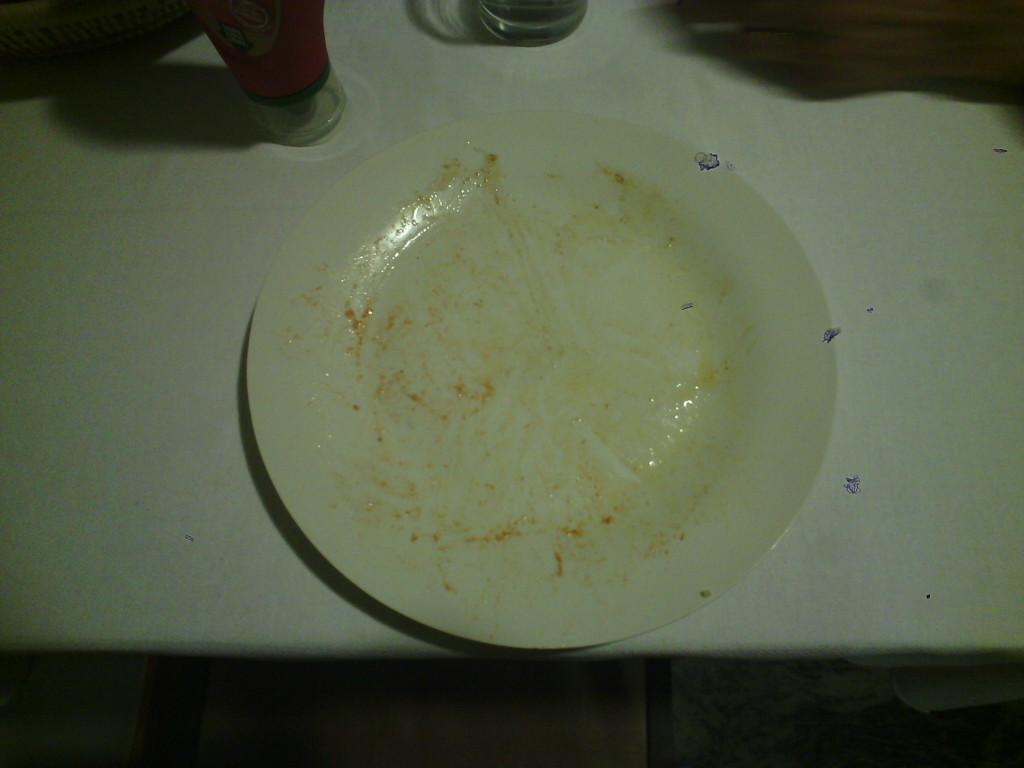0-20: (248, 113, 837, 652)
